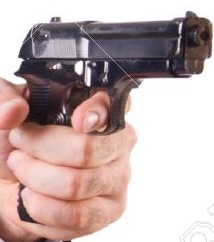pistol: (11, 10, 214, 222)
